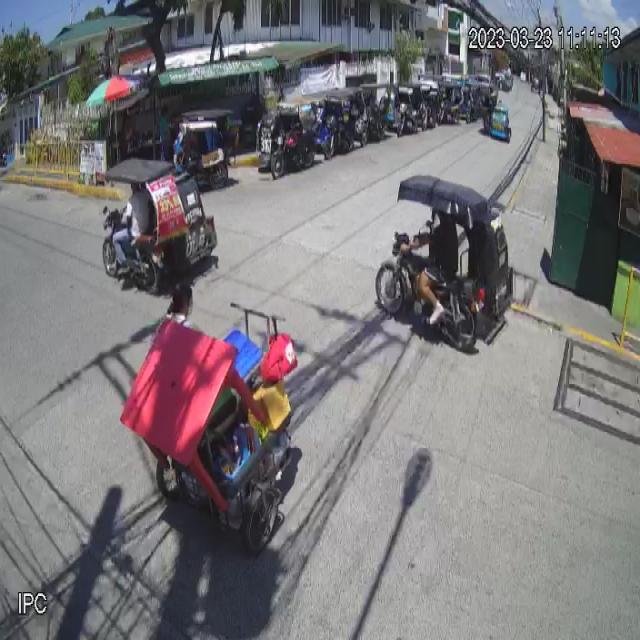Tricycle: (375, 174, 517, 351), (100, 156, 218, 292)
